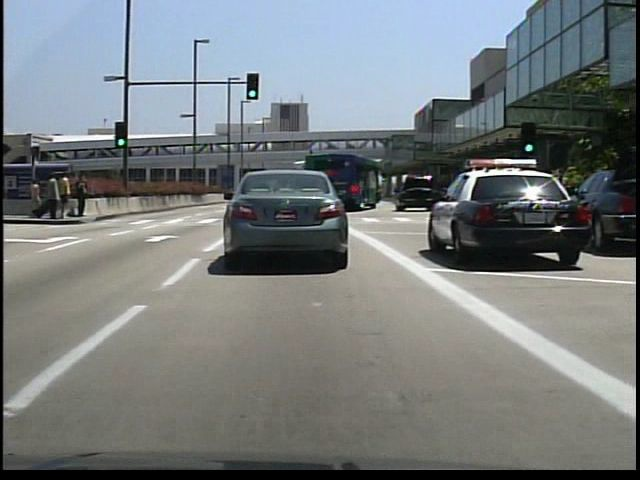person: (72, 172, 90, 220), (46, 172, 62, 221), (26, 175, 44, 218), (59, 171, 74, 221)
